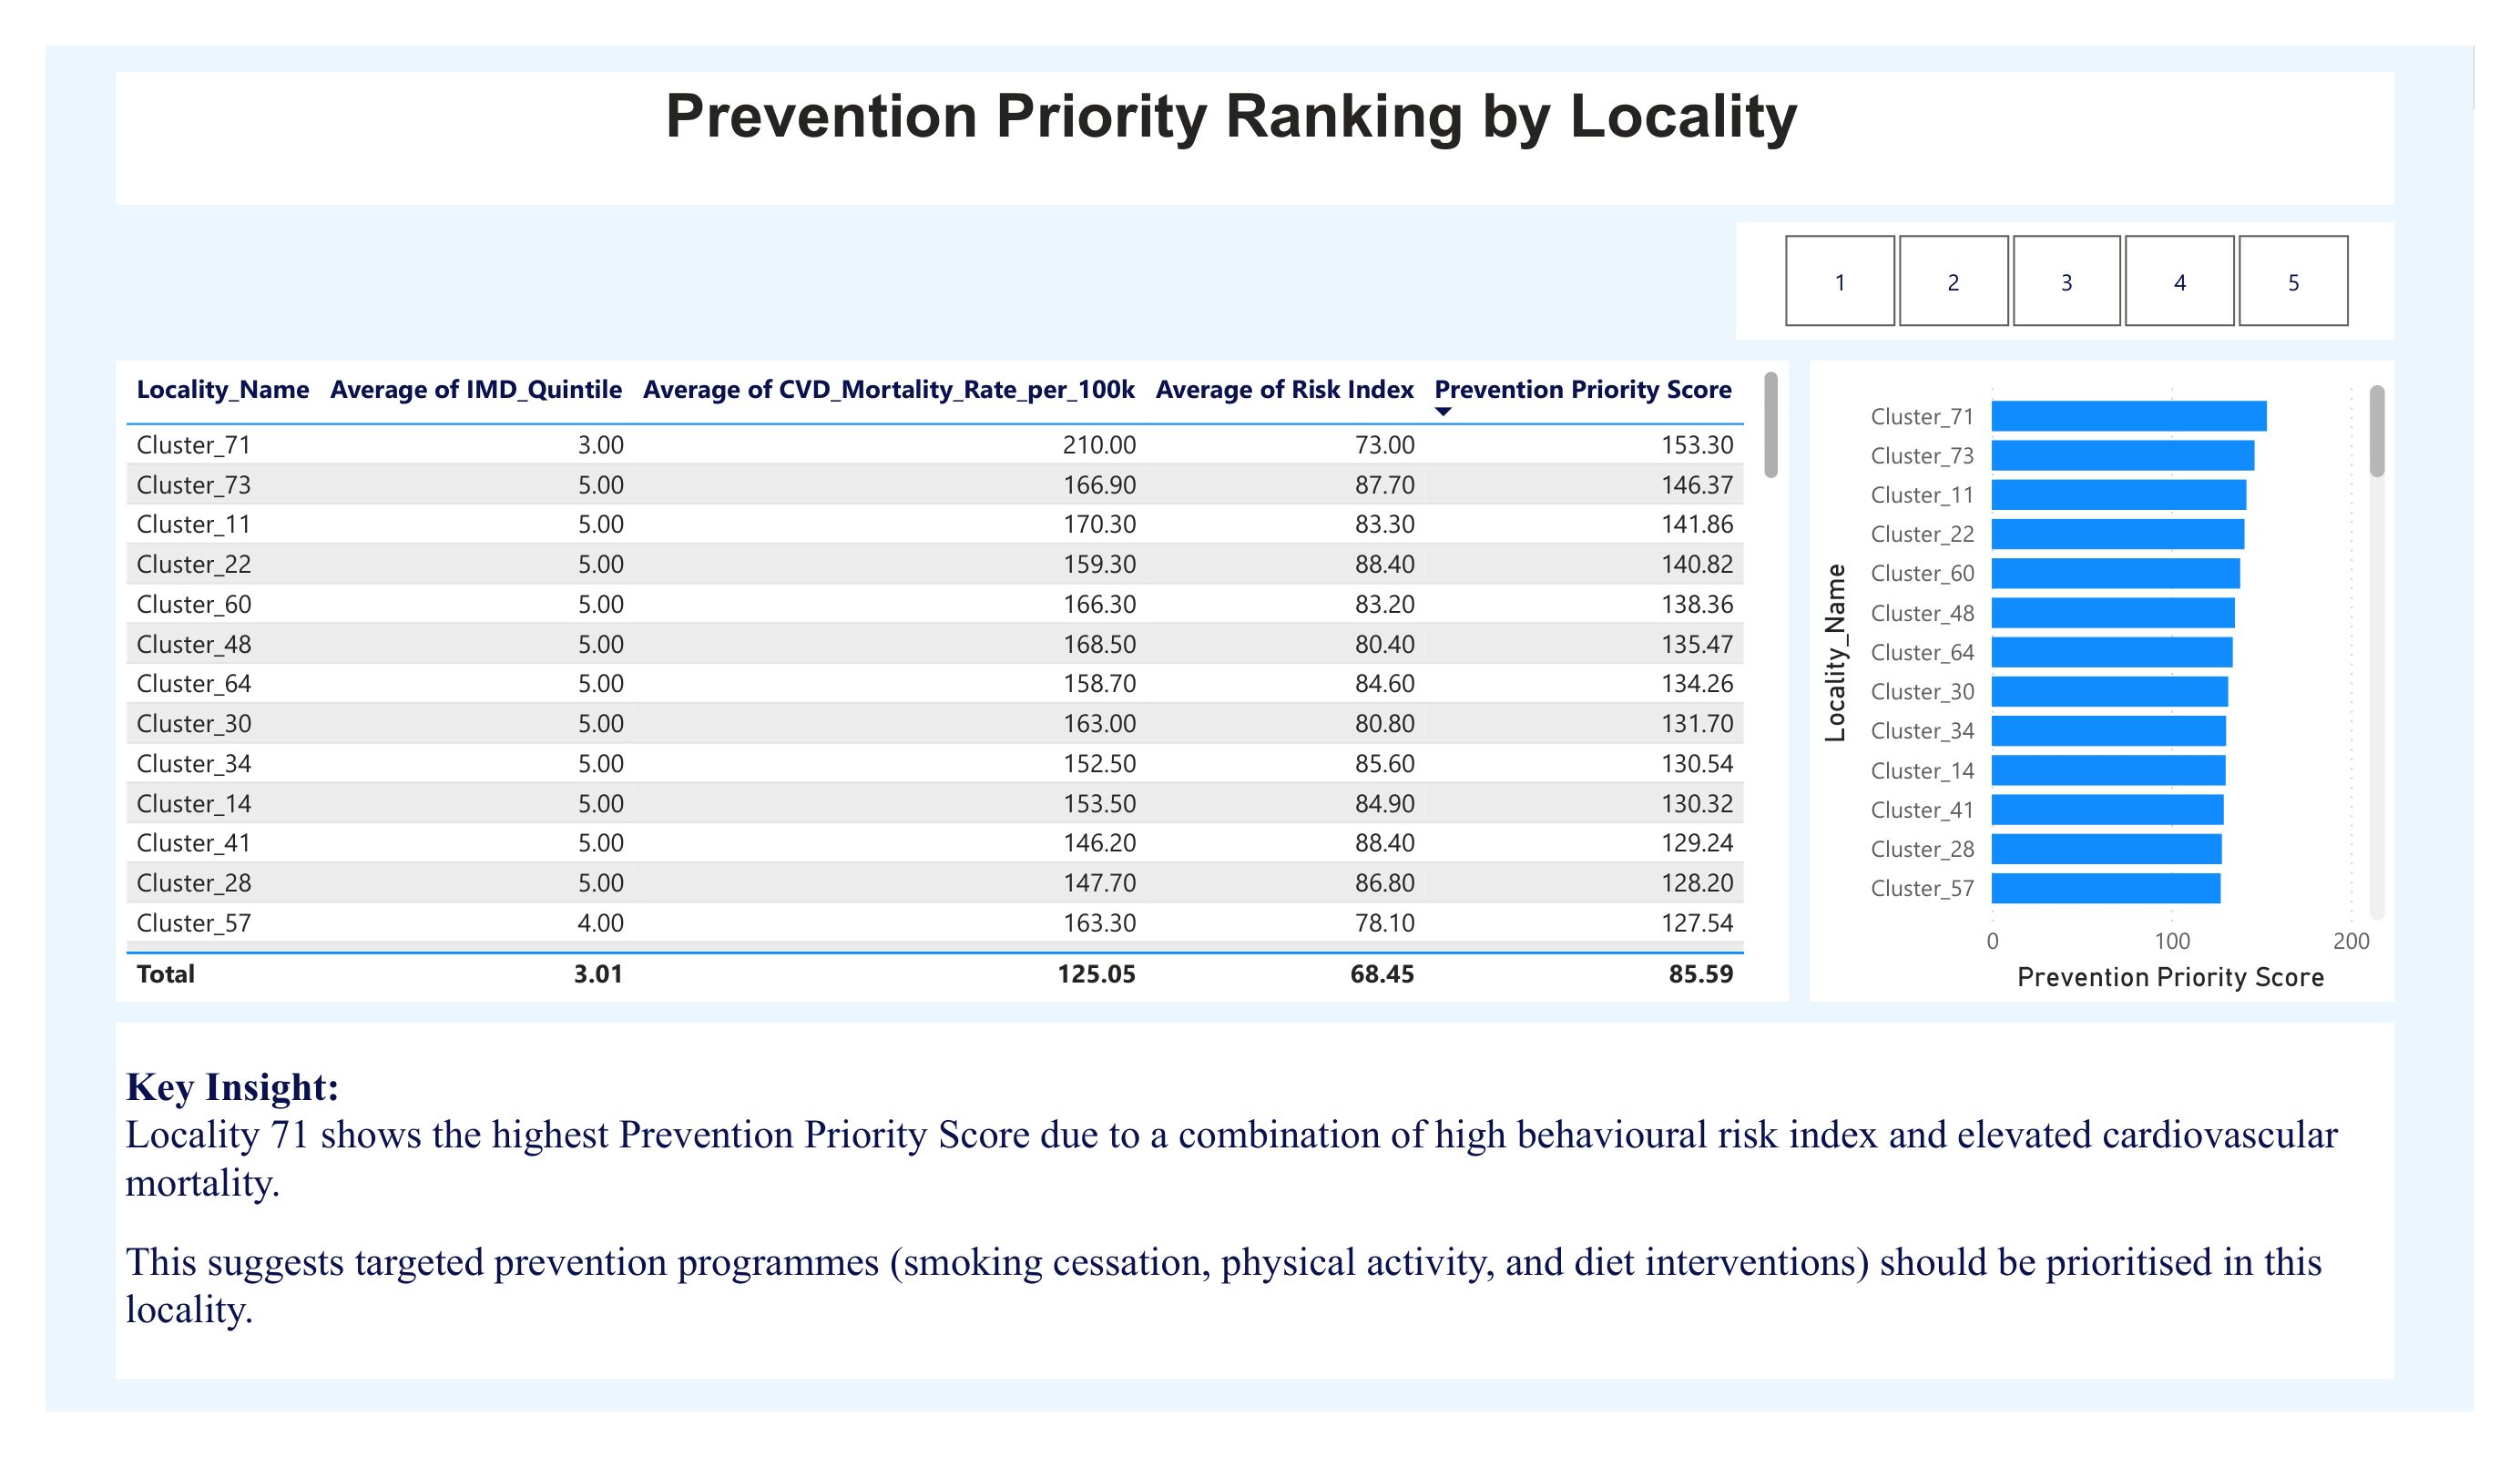

The dashboard page shown, as its layout file describes it:
{"tool":"powerbi","page":{"name":"Prevention Strategy","canvas":[1280,720],"ordinal":2},"visuals":[{"type":"tableEx","fields":{"Values":["cvd_deprivation_messy_dataset.Locality_Name","Avg(cvd_deprivation_messy_dataset.IMD_Quintile)","Avg(cvd_deprivation_messy_dataset.CVD_Mortality_Rate_per_100k)","Avg(cvd_deprivation_messy_dataset.Risk Index)","cvd_deprivation_messy_dataset.Prevention Priority Score"]},"box":[37,166,882.3,337.6],"z":0},{"type":"clusteredBarChart","fields":{"Category":["cvd_deprivation_messy_dataset.Locality_Name"],"Y":["cvd_deprivation_messy_dataset.Prevention Priority Score"]},"box":[930.4,166,307.4,337.6],"z":1000},{"type":"slicer","fields":{"Values":["cvd_deprivation_messy_dataset.IMD_Quintile"]},"box":[890.6,93.3,347.2,61.7],"z":2000},{"type":"textbox","box":[37,514.6,1200.7,188],"z":3000},{"type":"textbox","box":[37,13.7,1200.7,70],"z":4000}]}

Visuals, with their boxes on the page's 1280x720 design canvas (x1, y1, x2, y2). These are canvas units, not pixel positions in the 2520x1457 screenshot, which may show the page scaled, cropped or inside an application window:
tableEx - cvd_deprivation_messy_dataset.Locality_Name x Avg(cvd_deprivation_messy_dataset.IMD_Quintile): <bbox>37, 166, 919, 504</bbox>
clusteredBarChart - cvd_deprivation_messy_dataset.Locality_Name x cvd_deprivation_messy_dataset.Prevention Priority Score: <bbox>930, 166, 1238, 504</bbox>
slicer - cvd_deprivation_messy_dataset.IMD_Quintile: <bbox>891, 93, 1238, 155</bbox>
textbox: <bbox>37, 515, 1238, 703</bbox>
textbox: <bbox>37, 14, 1238, 84</bbox>
